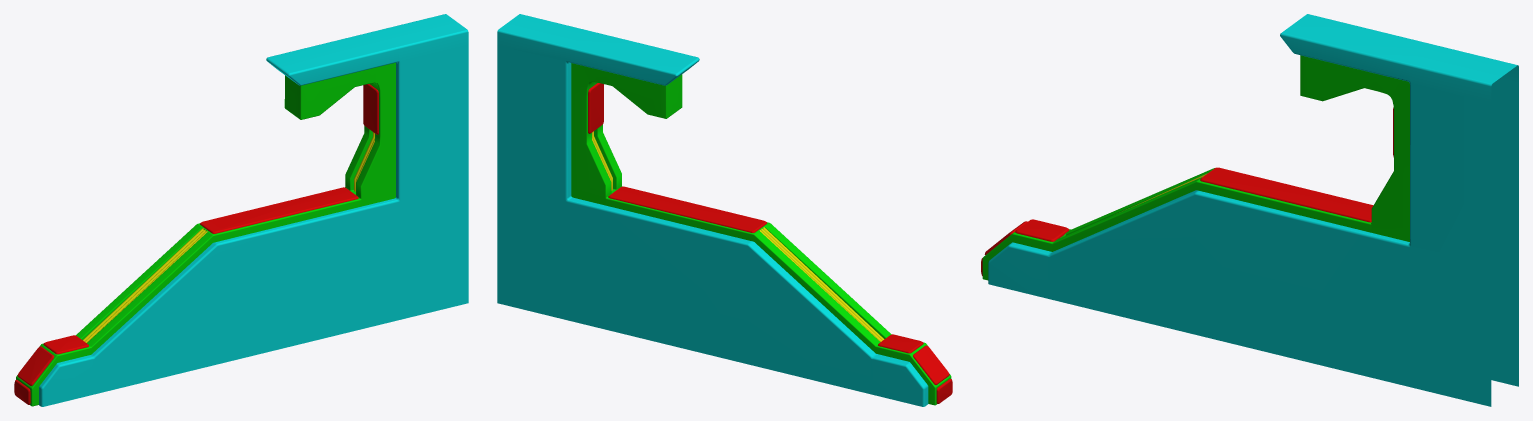
The model's file is Exterior_Side_Column.fbx.
3 renders of one model, left to right at view 1: azimuth 30°, elevation 25°; view 2: azimuth 150°, elevation 25°; view 3: azimuth 330°, elevation 25°, orthographic. The views are drawn at different scales.
Parts seen in each view (by area): view 1: Exterior_Side_Column; view 2: Exterior_Side_Column; view 3: Exterior_Side_Column.
Boxes of the visible parts, left/top/right/bottom form: Exterior_Side_Column: left=14, top=14, right=468, bottom=406; Exterior_Side_Column: left=497, top=14, right=952, bottom=406; Exterior_Side_Column: left=981, top=14, right=1518, bottom=406.
Bounding box in the file's own units: 2535 × 1515 × 235.
